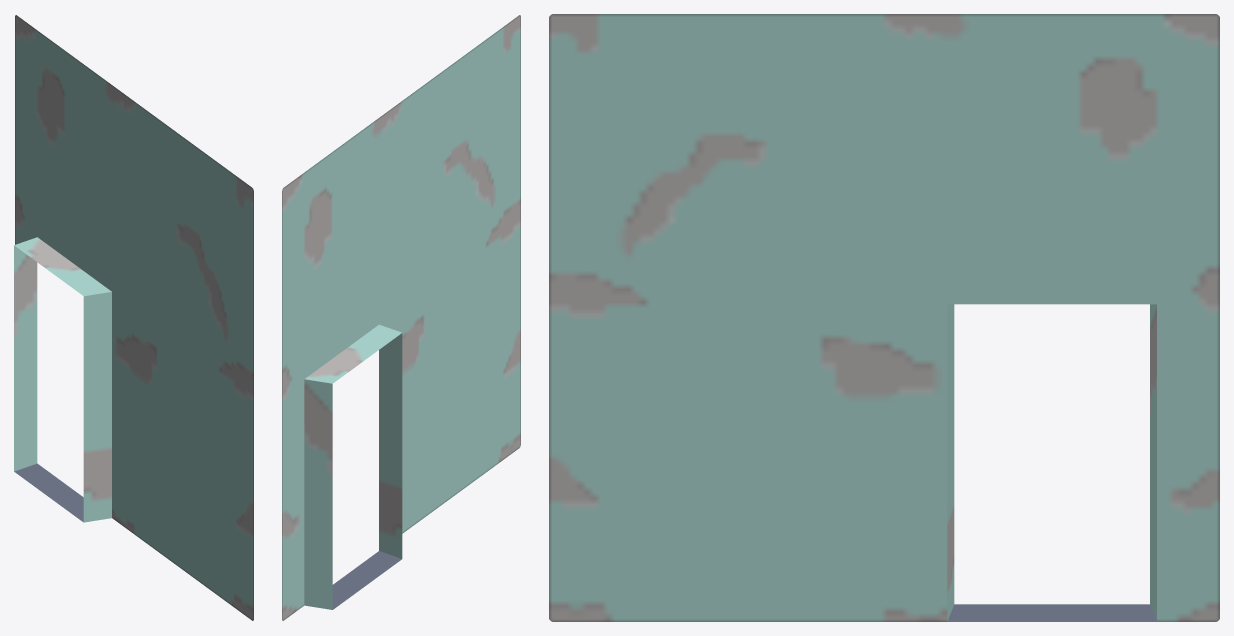
File: ParedPuertaAzul2.fbx
The picture shows the model from 3 angles, left to right: view 1: azimuth 30°, elevation 25°; view 2: azimuth 150°, elevation 25°; view 3: azimuth 270°, elevation 25°; orthographic projection. The views are drawn at different scales.
Visible parts, largest first — view 1: Pared + puerta 2; view 2: Pared + puerta 2; view 3: Pared + puerta 2.
Boxes of the visible parts, x1,y1,x2,y2 form: Pared + puerta 2: [14, 15, 253, 620]; Pared + puerta 2: [282, 15, 520, 620]; Pared + puerta 2: [549, 14, 1219, 621].
Size of the model in its own units: 18.75 by 300 by 300.
1 material, 1 textured.
